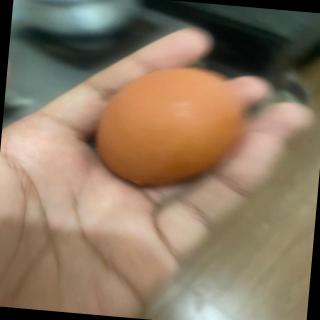Telur: (84, 57, 253, 198)
